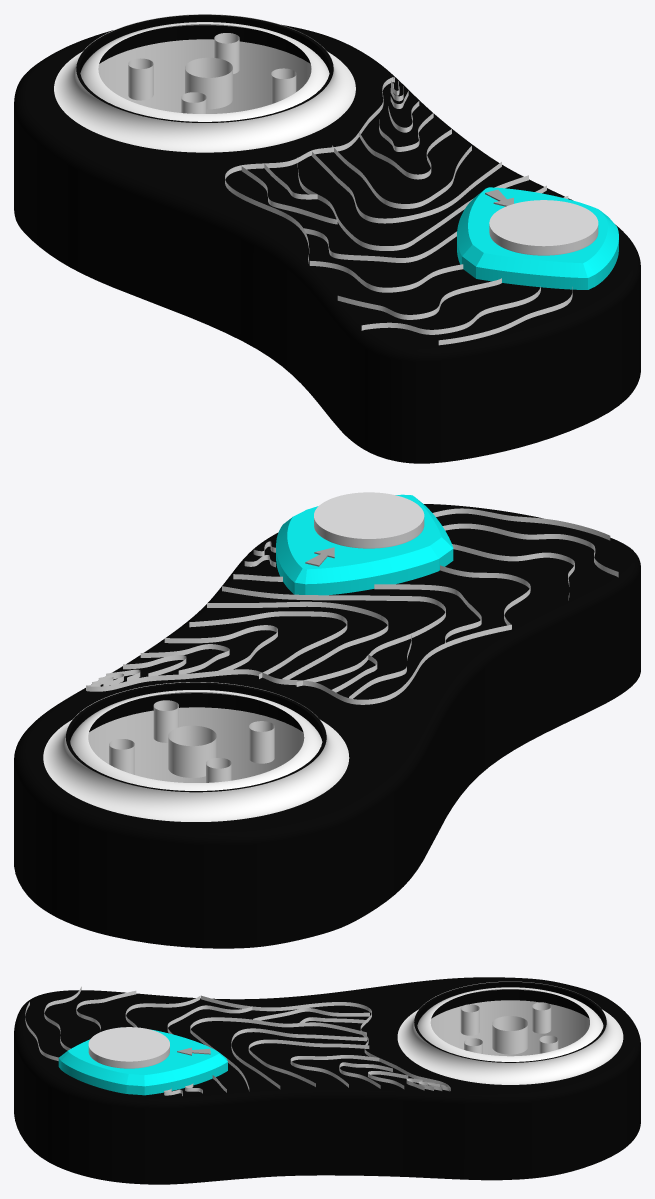
The model's file is study-fan-panel.glb.
The picture shows the model from 3 angles, top to bottom: view 1: azimuth 30°, elevation 25°; view 2: azimuth 150°, elevation 25°; view 3: azimuth 270°, elevation 25°; orthographic projection. The views are drawn at different scales.
Parts seen in each view (by area): view 1: part-12, part-06, part-04, part-01, part-02, part-05, part-08, part-33, part-22, part-21, part-07, part-28 (+7 smaller); view 2: part-12, part-06, part-04, part-01, part-02, part-05, part-33, part-08, part-22, part-21, part-20, part-11 (+9 smaller); view 3: part-12, part-06, part-04, part-01, part-02, part-05, part-08, part-33, part-22, part-20, part-21, part-19 (+9 smaller).
Part boxes in pixels (x1,y1,x2,y2): part-12: [14, 14, 640, 463]; part-06: [54, 14, 355, 152]; part-04: [457, 187, 618, 289]; part-01: [98, 39, 311, 113]; part-02: [489, 200, 598, 255]; part-05: [80, 22, 329, 121]; part-08: [185, 57, 232, 109]; part-33: [225, 77, 393, 263]; part-22: [297, 157, 528, 250]; part-21: [312, 152, 501, 223]; part-07: [128, 58, 153, 100]; part-28: [361, 286, 540, 334]; part-12: [14, 504, 640, 948]; part-06: [43, 682, 349, 821]; part-04: [276, 494, 453, 595]; part-01: [88, 707, 304, 782]; part-02: [314, 492, 424, 548]; part-05: [70, 690, 322, 790]; part-33: [86, 624, 511, 704]; part-08: [168, 725, 216, 777]; part-22: [222, 586, 445, 686]; part-21: [207, 601, 388, 679]; part-20: [189, 611, 347, 678]; part-11: [249, 721, 274, 763]; part-12: [14, 977, 640, 1184]; part-06: [397, 981, 623, 1084]; part-04: [58, 1029, 227, 1095]; part-01: [430, 1000, 589, 1056]; part-02: [88, 1027, 169, 1068]; part-05: [417, 987, 603, 1061]; part-08: [492, 1016, 527, 1054]; part-33: [200, 995, 450, 1090]; part-22: [190, 1017, 366, 1091]; part-20: [248, 1039, 369, 1086]; part-21: [231, 1028, 366, 1089]; part-19: [290, 1055, 379, 1087].
Size of the model in its own units: 108 by 42.77 by 226.
